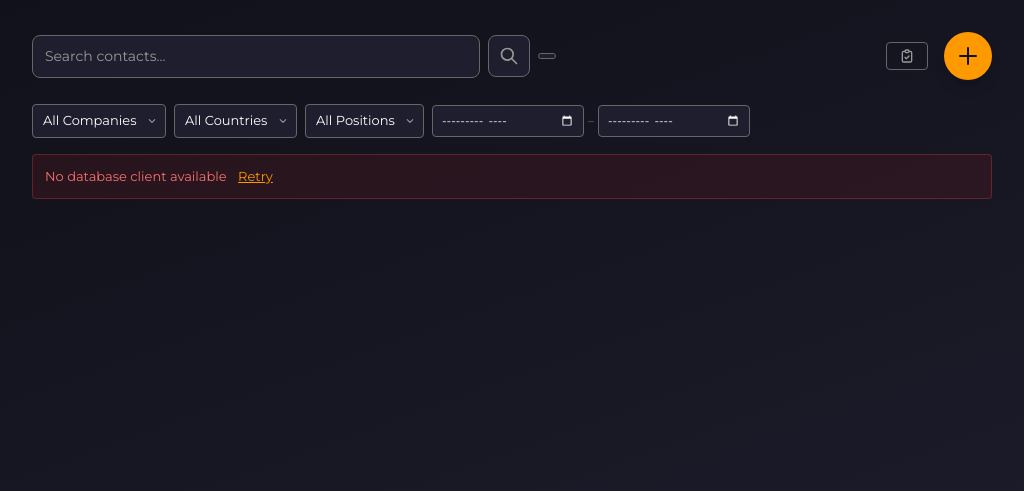
Test case: Contacts page - load error visibility › retries the load when the Retry button is clicked, clearing the error on success
Click the button "Retry": (255, 176) [238,166,273,186]
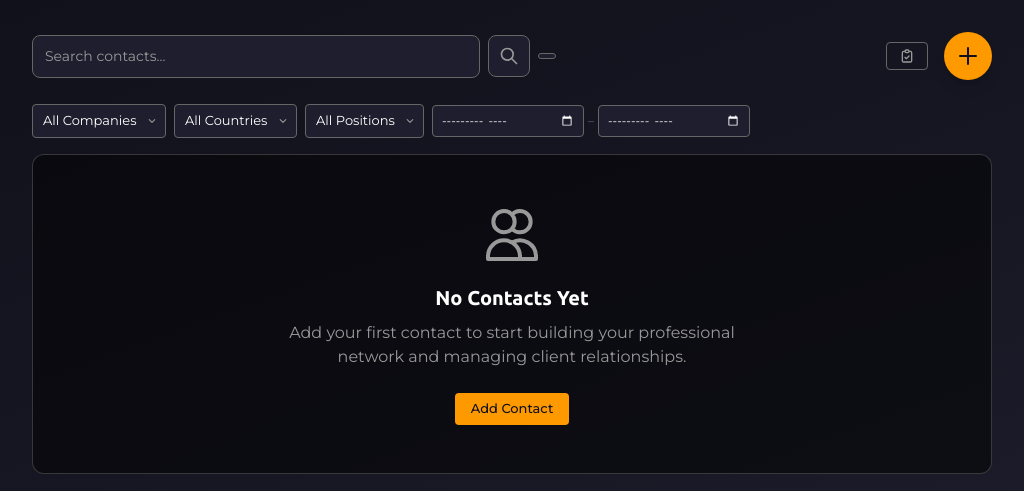
Expected: the text "No database client available" is gone
Expected: the heading "No Contacts Yet" is shown, [435,282,589,312]
